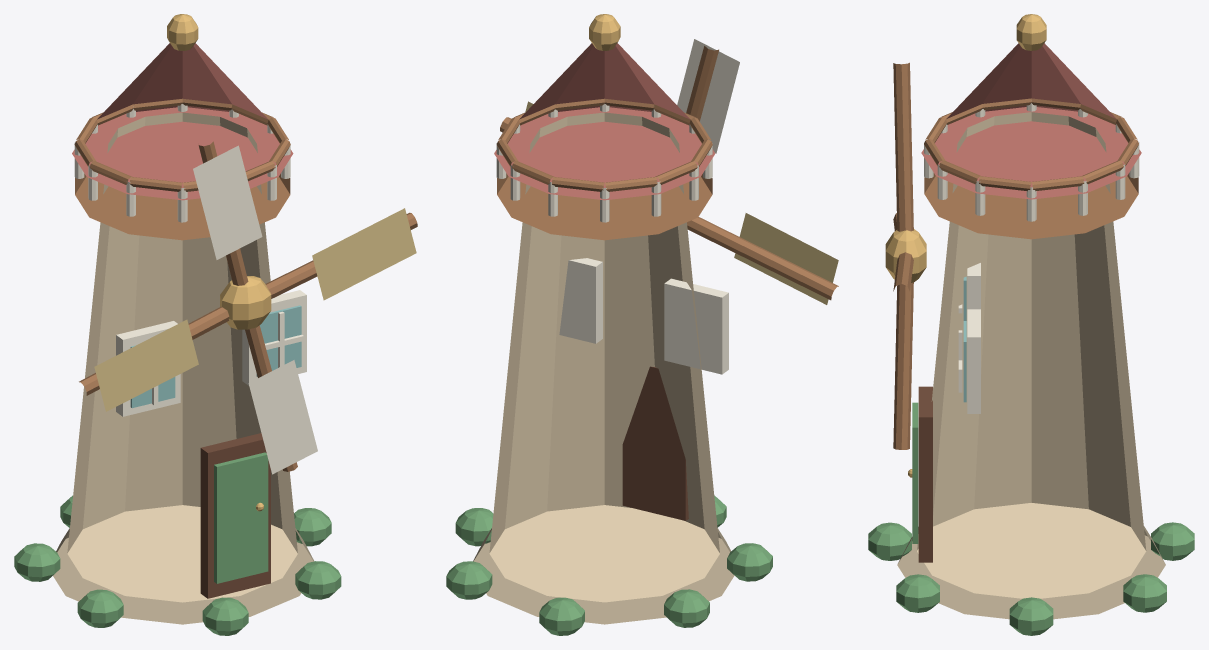
The model's file is windmill.glb.
3 views of the same model, side by side, from view 1: azimuth 30°, elevation 25°; view 2: azimuth 150°, elevation 25°; view 3: azimuth 270°, elevation 25° (orthographic).
Visible parts, largest first — view 1: ivory-tapered-tower, conical-terracotta-roof, sage-door-front, timber-balcony, stone-tower-base, linen-wind-sail-2, linen-wind-sail-0, linen-wind-sail-1, linen-wind-sail-3, windmill-door, rotor-hub, upper-window-0.48-glass (+13 smaller); view 2: ivory-tapered-tower, conical-terracotta-roof, timber-balcony, windmill-door, upper-window--0.48-frame, stone-tower-base, upper-window-0.48-frame, linen-wind-sail-2, linen-wind-sail-1, rotor-spoke-2, basal-herbs-6, basal-herbs-3 (+5 smaller); view 3: ivory-tapered-tower, conical-terracotta-roof, timber-balcony, stone-tower-base, rotor-spoke-1, rotor-spoke-3, windmill-door, upper-window-0.48-frame, rotor-hub, basal-herbs-0, basal-herbs-1, basal-herbs-6 (+8 smaller).
Boxes of the visible parts, x1,y1,x2,y2 form: ivory-tapered-tower: (67,112,297,602); conical-terracotta-roof: (72,43,293,200); sage-door-front: (214,452,268,583); timber-balcony: (75,173,290,240); stone-tower-base: (53,528,313,624); linen-wind-sail-2: (94,319,198,411); linen-wind-sail-0: (312,208,416,300); linen-wind-sail-1: (193,145,262,259); linen-wind-sail-3: (248,360,317,474); windmill-door: (200,433,270,598); rotor-hub: (220,276,271,329); upper-window-0.48-glass: (256,305,301,376); ivory-tapered-tower: (489,112,719,602); conical-terracotta-roof: (494,43,715,200); timber-balcony: (497,173,712,240); windmill-door: (622,366,688,520); upper-window--0.48-frame: (664,278,728,374); stone-tower-base: (473,528,734,624); upper-window-0.48-frame: (559,258,602,343); linen-wind-sail-2: (734,213,838,304); linen-wind-sail-1: (677,39,739,153); rotor-spoke-2: (687,217,838,300); basal-herbs-6: (446,561,492,599); basal-herbs-3: (727,543,772,581); ivory-tapered-tower: (917,112,1146,598); conical-terracotta-roof: (921,43,1141,199); timber-balcony: (924,173,1138,239); stone-tower-base: (897,526,1165,619); rotor-spoke-1: (893,62,913,231); rotor-spoke-3: (893,282,913,449); windmill-door: (918,386,932,562); upper-window-0.48-frame: (967,309,980,413); rotor-hub: (885,229,926,282); basal-herbs-0: (1009,597,1053,635); basal-herbs-1: (896,574,939,612); basal-herbs-6: (1123,574,1166,612).
Bounding box in the file's own units: 2.55 × 4.07 × 2.16.
